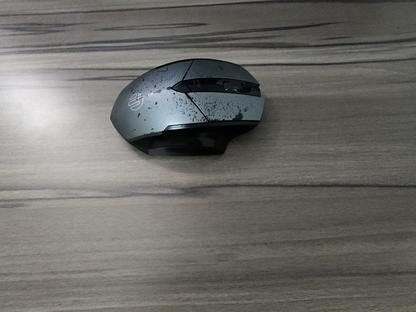mouse: (108, 57, 265, 157)
